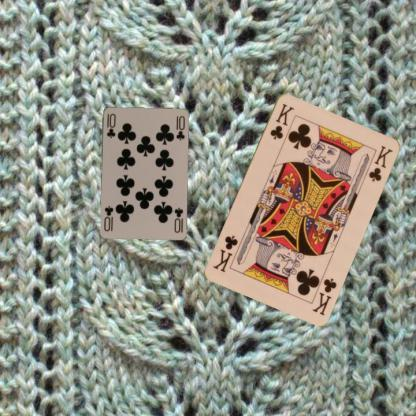10c: (104, 110, 116, 140), (172, 205, 184, 234)
Kc: (309, 275, 338, 317), (267, 101, 296, 142)
